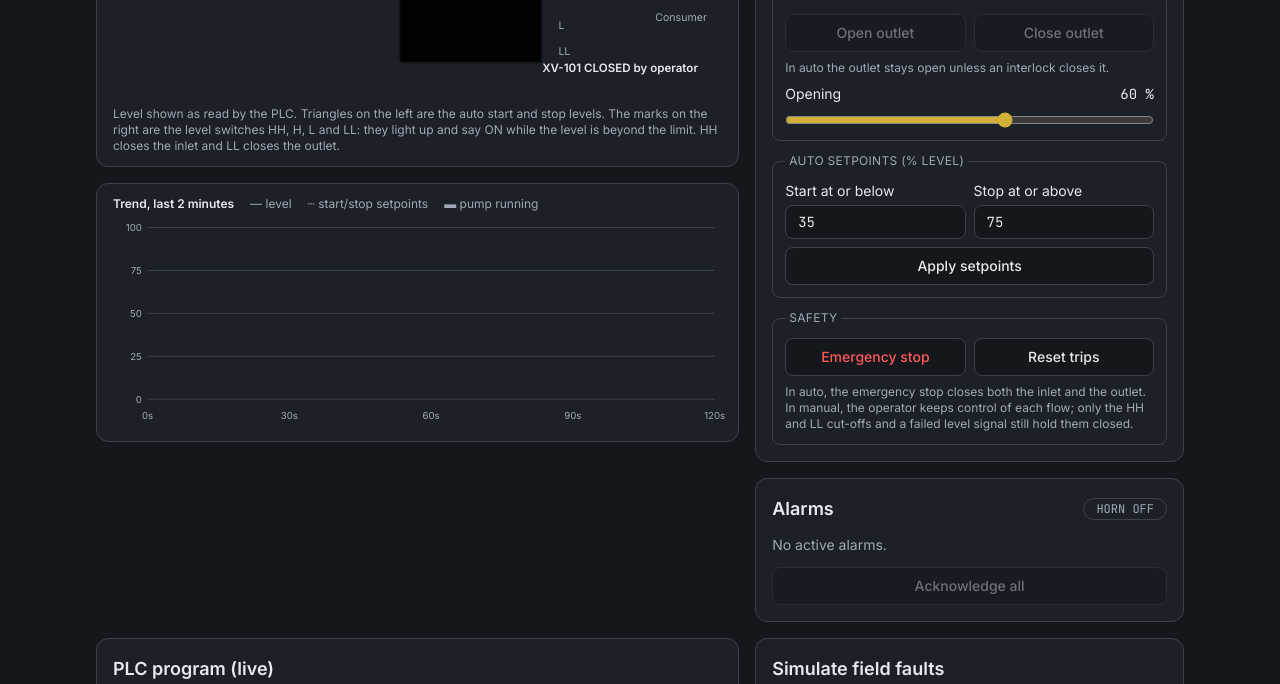
Test: alarms › emergency stop: critical banner, horn, acknowledge, release and reset
(page scrolled)
Click the button "Emergency stop". click: (875, 357)
box: [785,338,966,376]
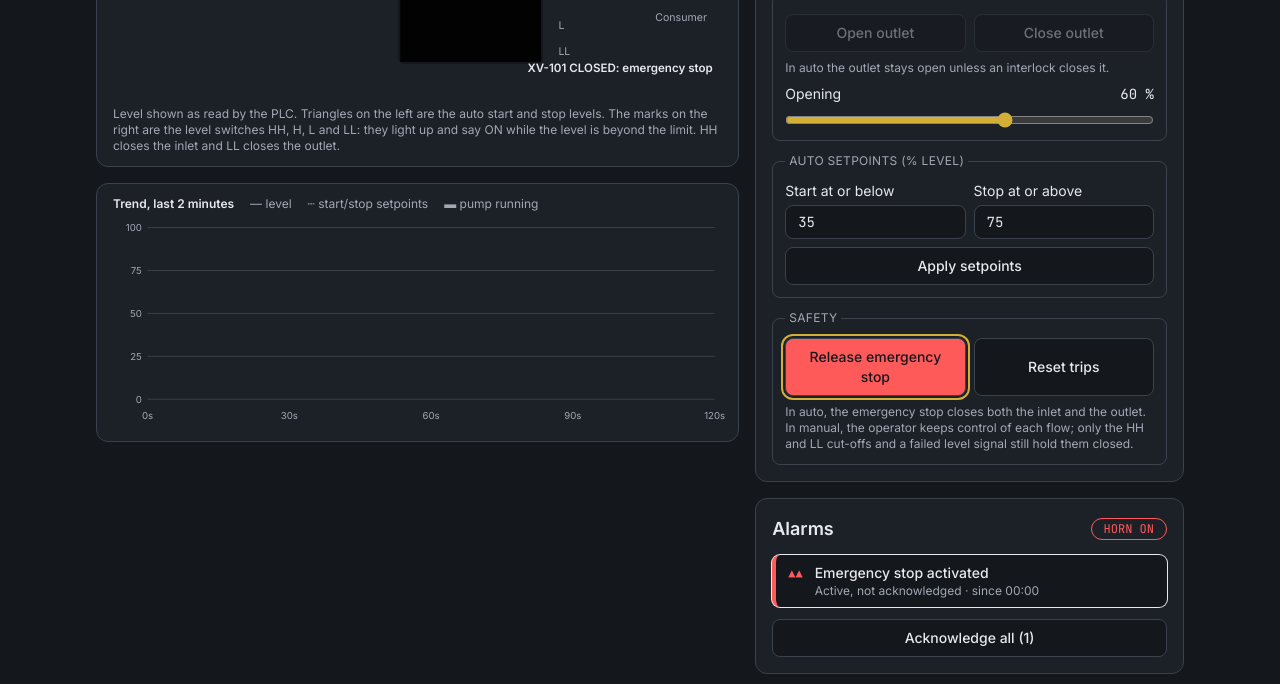
Check: the text with test id "horn" reads "HORN ON", box [1104,521,1154,537]
Check: the text "Emergency stop activated" is shown, box [814,563,988,581]
Click the button "Acknowledge all (1)". click: (970, 638)
box: [772,619,1167,657]
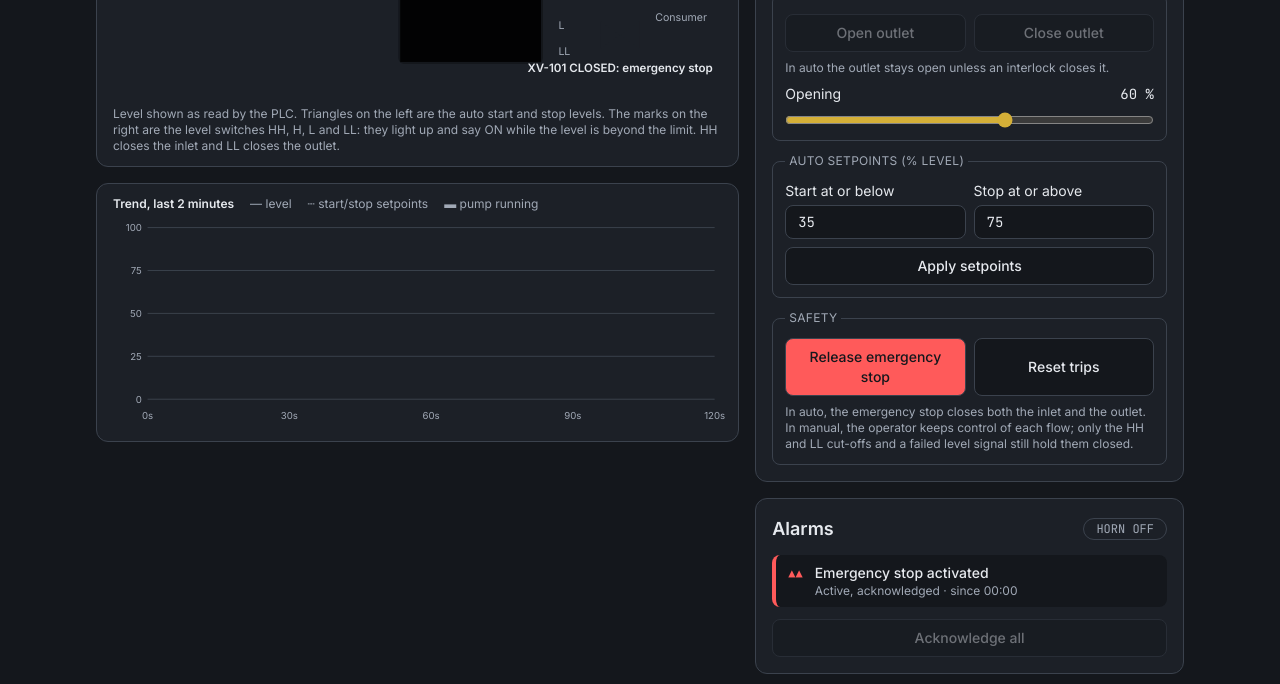
Check: the text with test id "horn" reads "HORN OFF", box [1096,521,1154,537]
Check: the text "Active, acknowledged · since 00:00" is shown, box [815,583,1017,598]
Click the button "Release emergency stop". click: (875, 367)
box: [785,338,966,396]
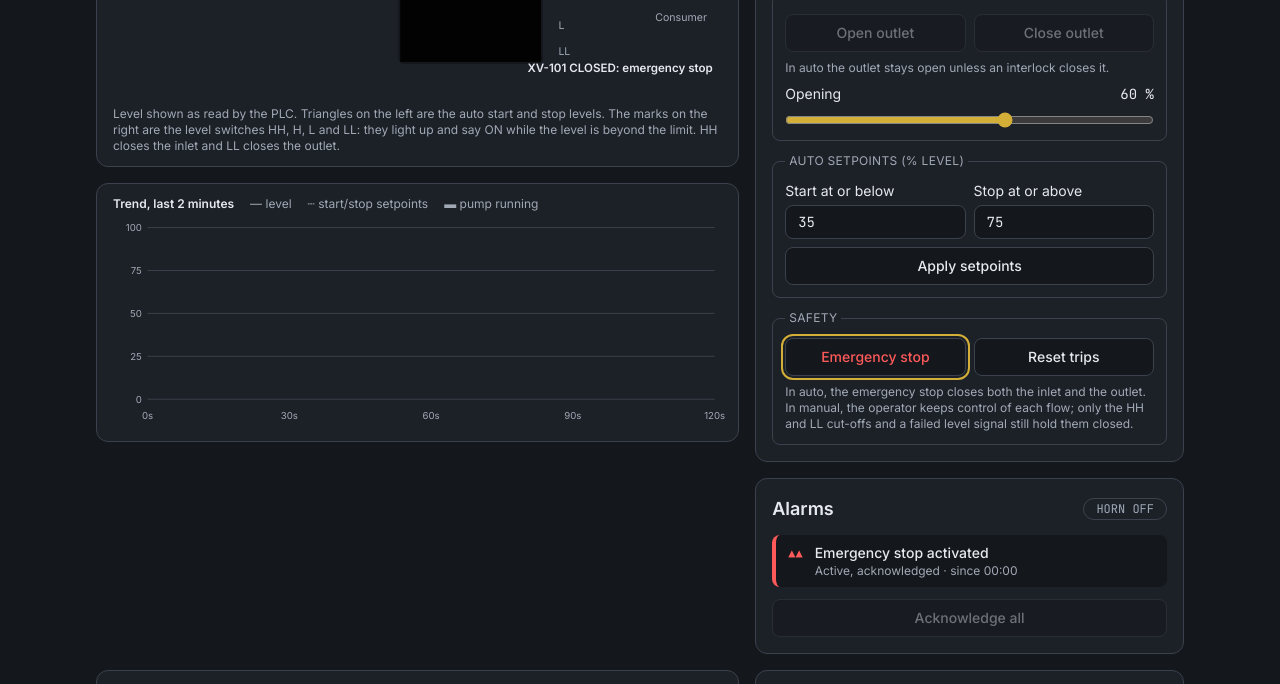
Click the button "Reset trips". click: (1064, 357)
box: [974,338,1154,376]
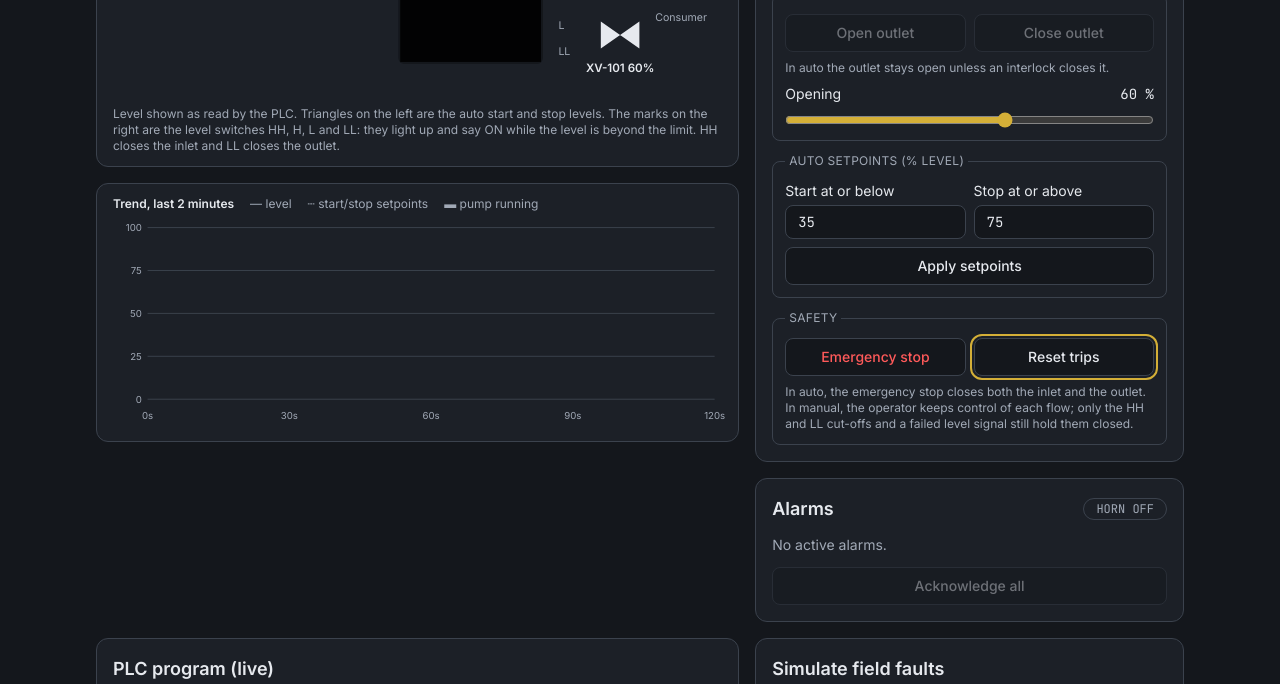
Check: the text "No active alarms." is shown, box [772,536,887,553]
